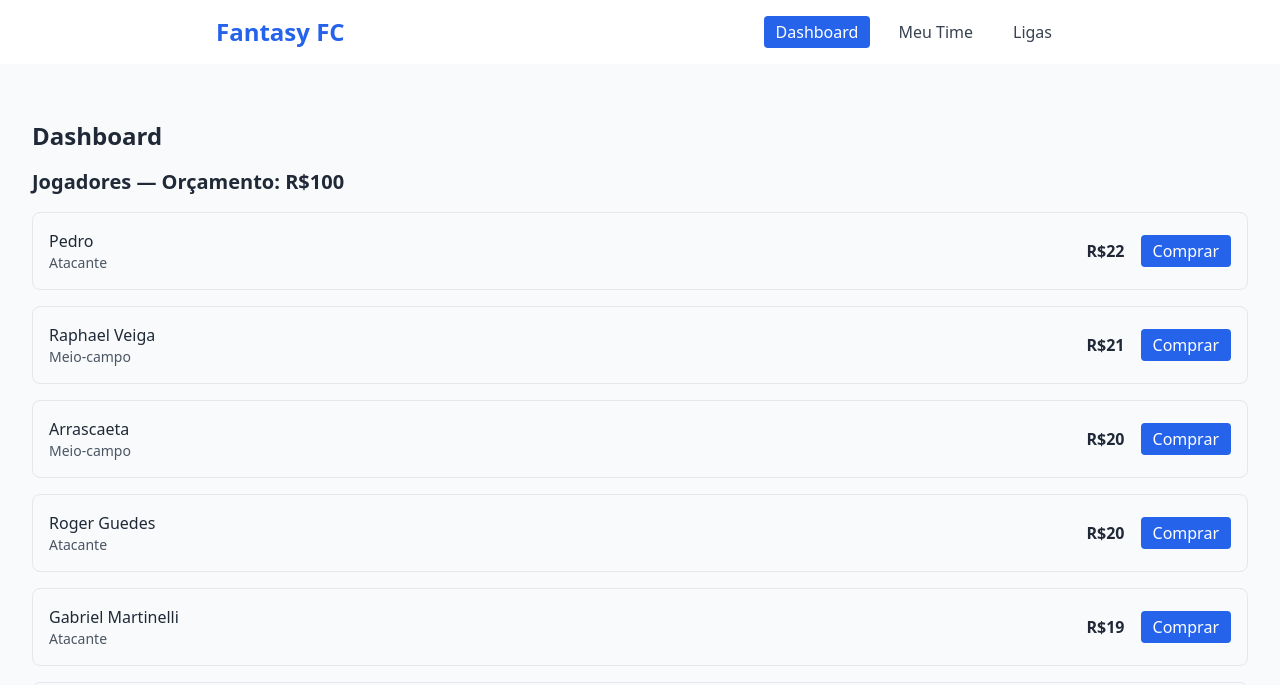
it: Fluxo de Compra de Jogador › Deve remover o card do Pedro após clicar em Comprar
Expected: the text "Pedro" is shown, [49,230,94,252]
Click the button "Comprar" next to "22": (1187, 251) [1141,235,1232,267]
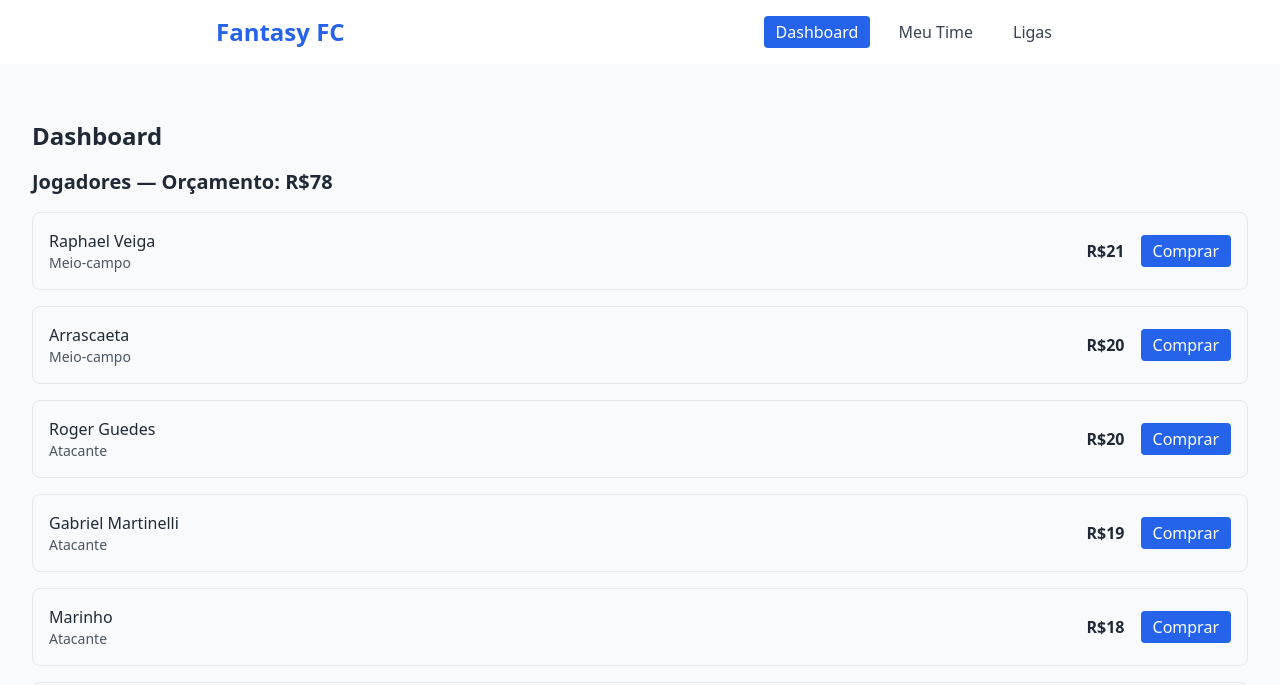
Now the text "Pedro" is gone
Click the link "Meu Time": (936, 32) [898,21,973,43]
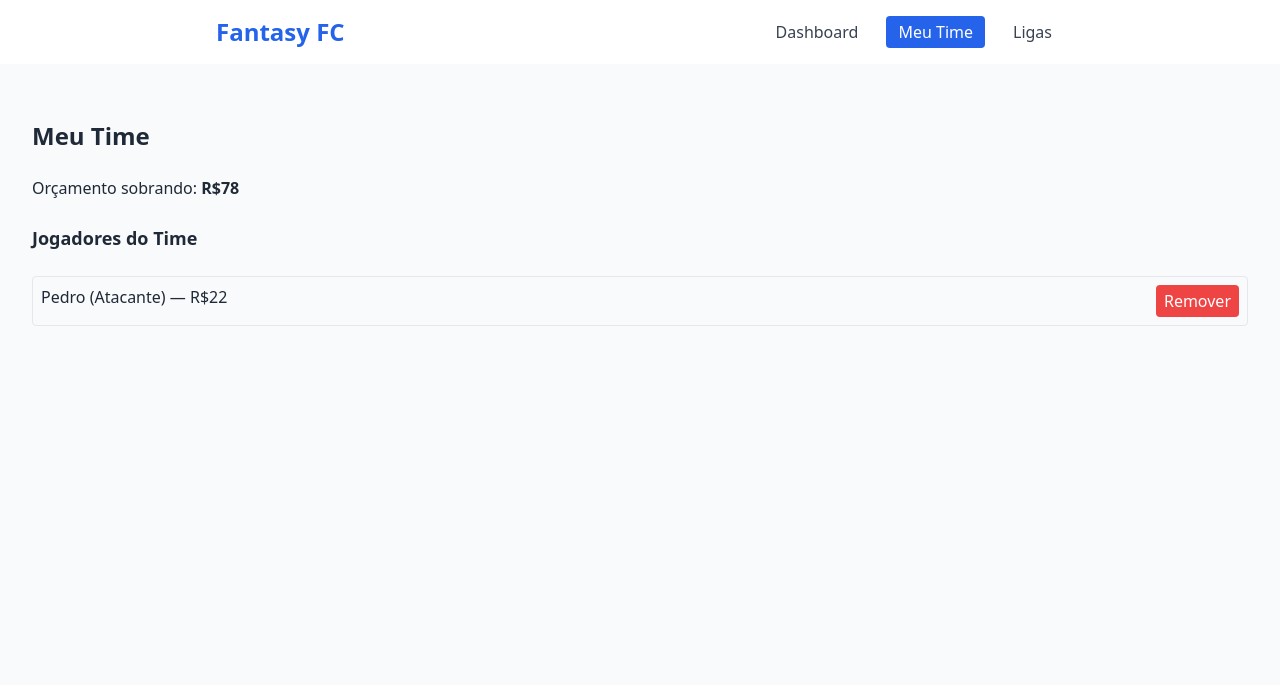
Now the text "Orçamento sobrando:" shows "R$78", box [32,177,201,199]
Now the list item "Pedro (Atacante) — R$22" is shown, box [32,276,1248,326]
